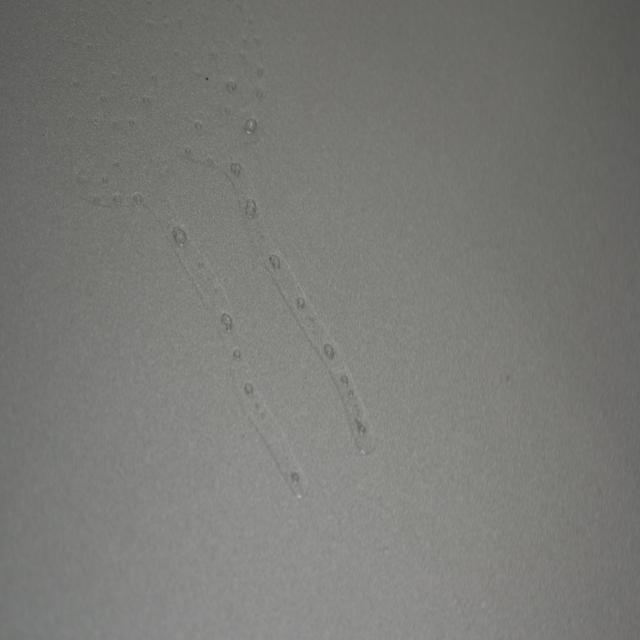runs: (31, 1, 371, 505)
